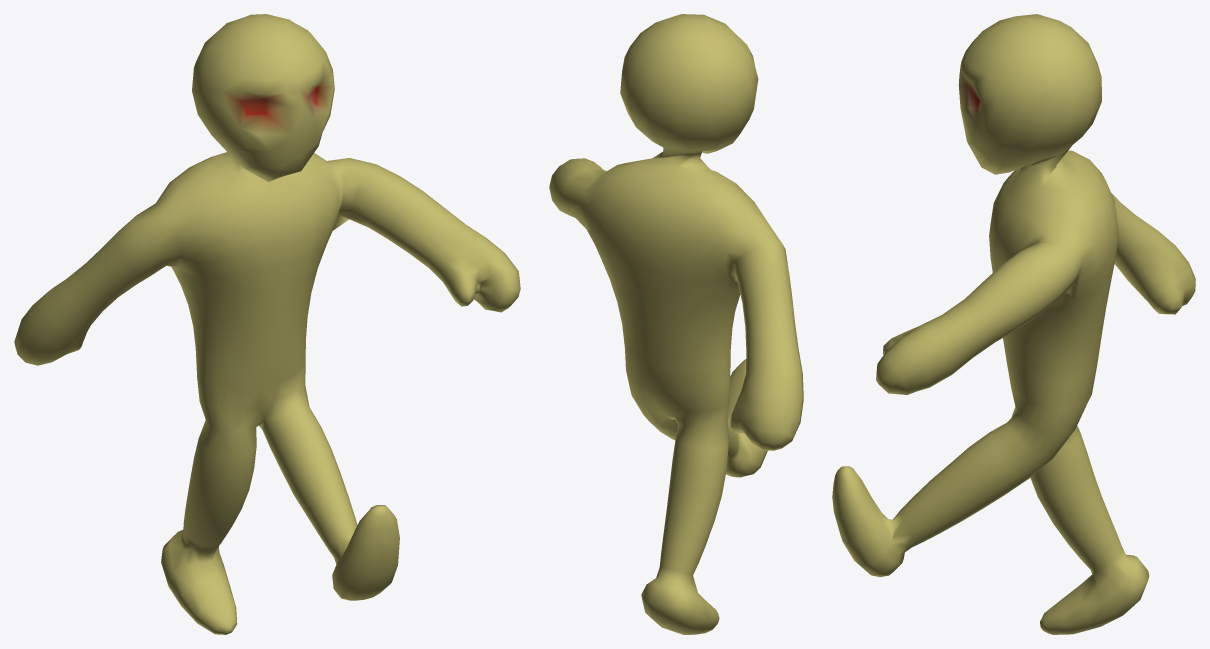
The model's file is SM_Mummy_01.fbx.
3 views of the same model, side by side, from view 1: azimuth 30°, elevation 25°; view 2: azimuth 150°, elevation 25°; view 3: azimuth 270°, elevation 25° (orthographic). The views are drawn at different scales.
Parts seen in each view (by area): view 1: Low; view 2: Low; view 3: Low.
Boxes of the visible parts, <box> form: Low: <box>14,14,520,634</box>; Low: <box>549,14,803,634</box>; Low: <box>832,14,1195,634</box>.
Bounding box in the file's own units: 3.3 × 5.24 × 2.75.
